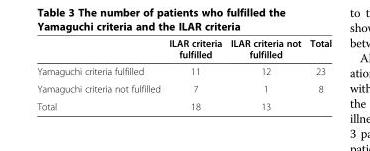table: (36, 37, 331, 111)
table column: (36, 37, 164, 111), (225, 37, 304, 111), (164, 37, 225, 111), (304, 37, 331, 111)
table column header: (36, 37, 331, 62)
table row: (36, 37, 331, 62), (36, 79, 331, 97), (36, 62, 331, 79), (36, 97, 331, 111)
